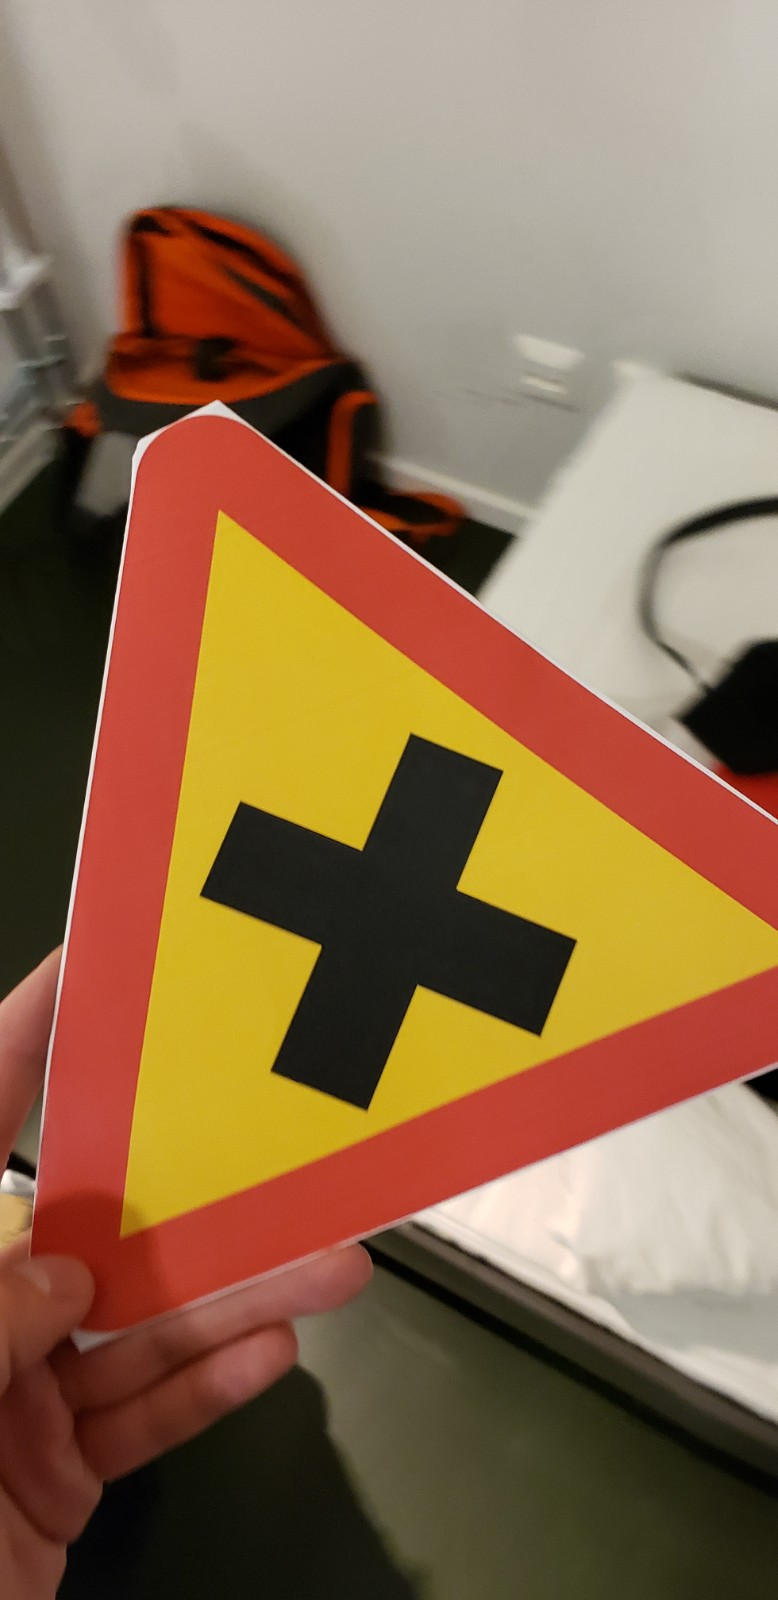junction: (27, 328, 778, 1363)
